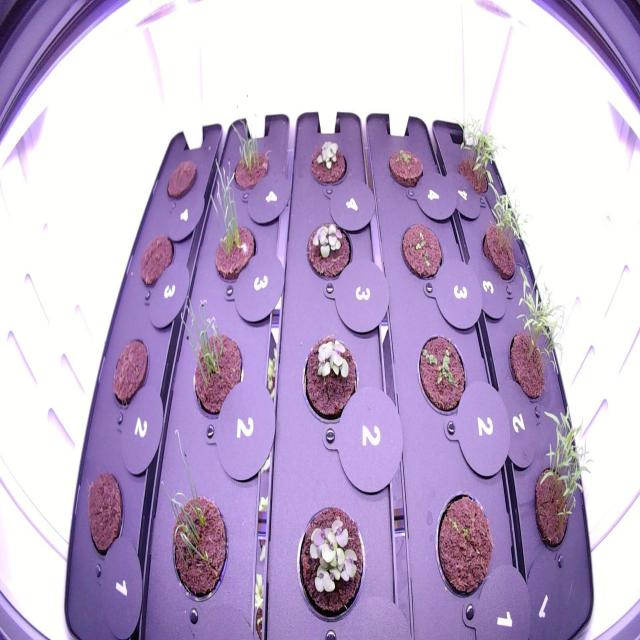germination: (151, 422, 231, 610), (292, 494, 368, 628), (530, 403, 594, 562), (175, 284, 248, 422), (504, 264, 568, 402), (198, 150, 261, 288), (298, 329, 366, 430), (476, 185, 540, 283), (414, 326, 472, 421), (451, 110, 506, 194), (223, 107, 274, 195), (395, 212, 448, 286), (300, 217, 355, 285), (304, 134, 350, 190), (382, 139, 428, 193)
pod: (428, 484, 498, 608), (82, 462, 126, 564), (108, 329, 150, 412), (136, 227, 176, 292), (160, 152, 200, 205)
